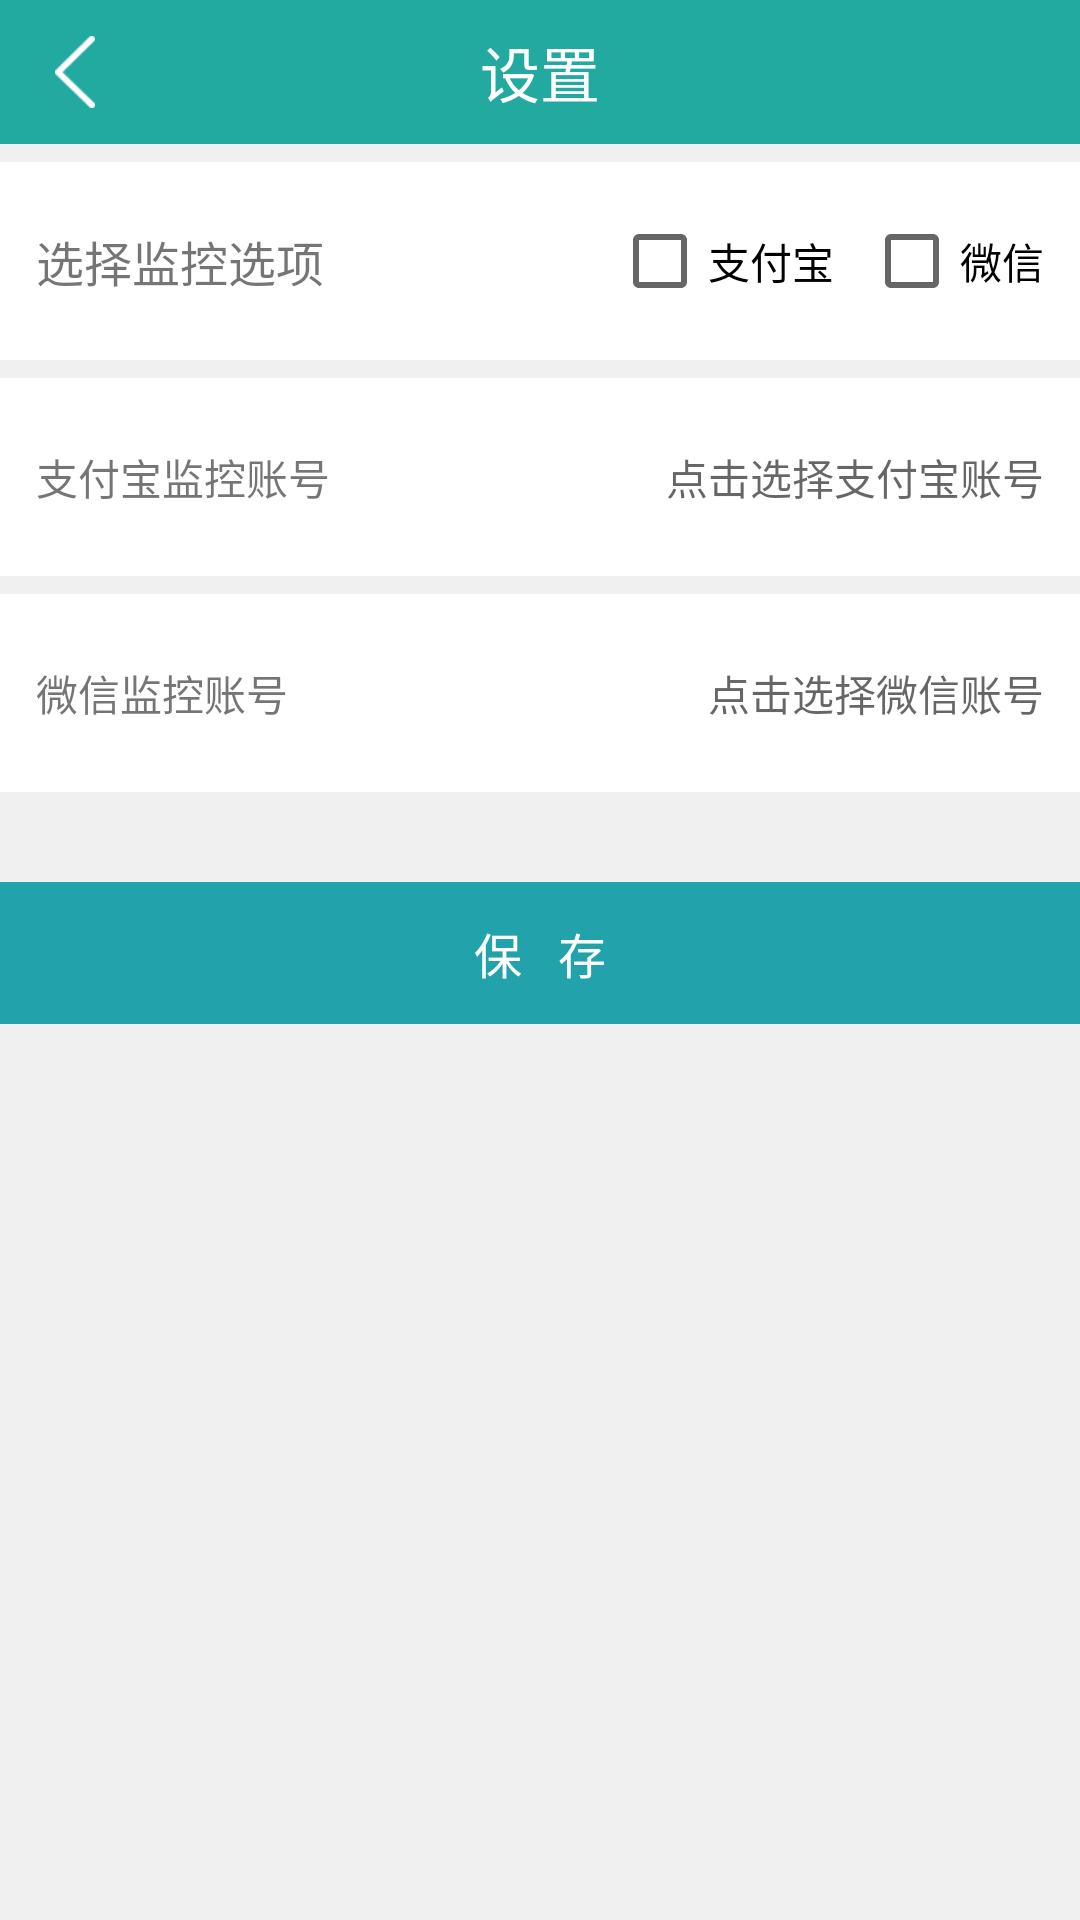

Point at icon controls on the screen. Image size 1080 × 1920, points as (x,y).
back: (75,72)
